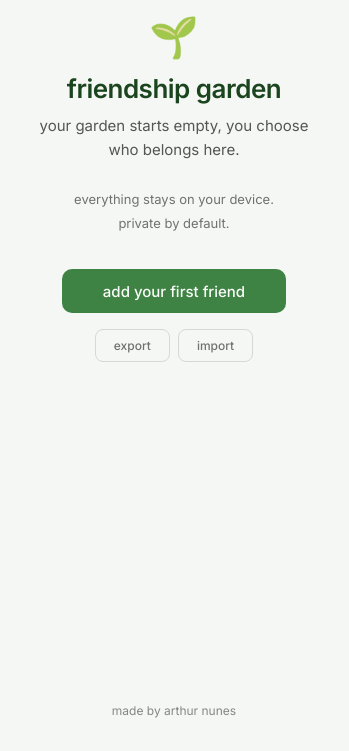
it: App › persistence › saves new friends to storage
Click the button "add your first friend" at (174, 291), box [62,269,286,313]
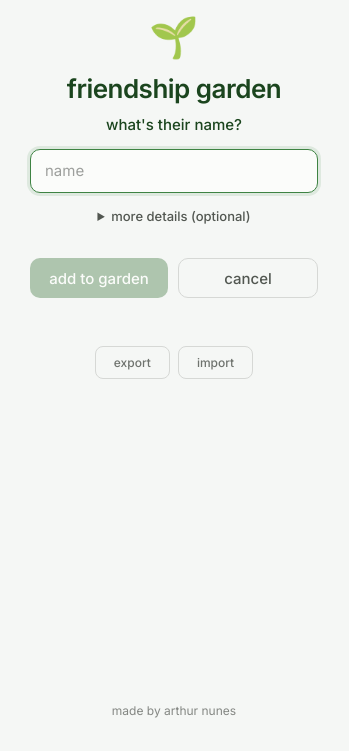
Type "Bob" into the field labelled "what's their name?" at (174, 170), box [30,148,318,192]
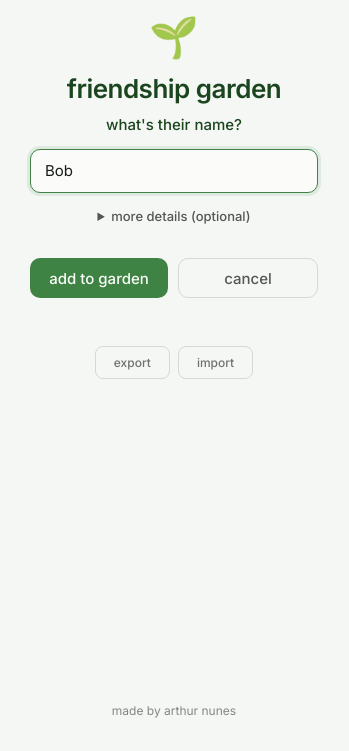
Click the button "add to garden" at (99, 278), box [30,258,168,298]
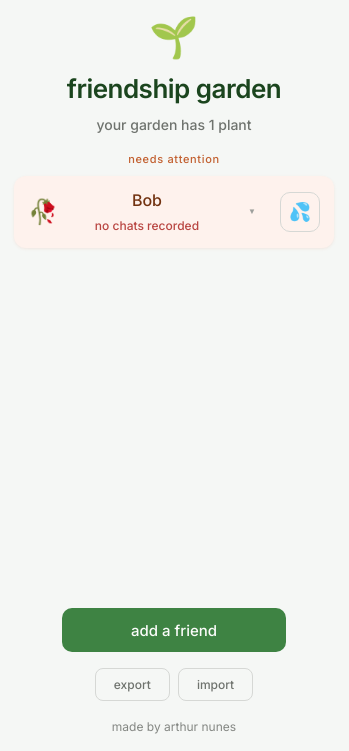
Expected: the text "Bob" is shown, [132,190,162,210]
